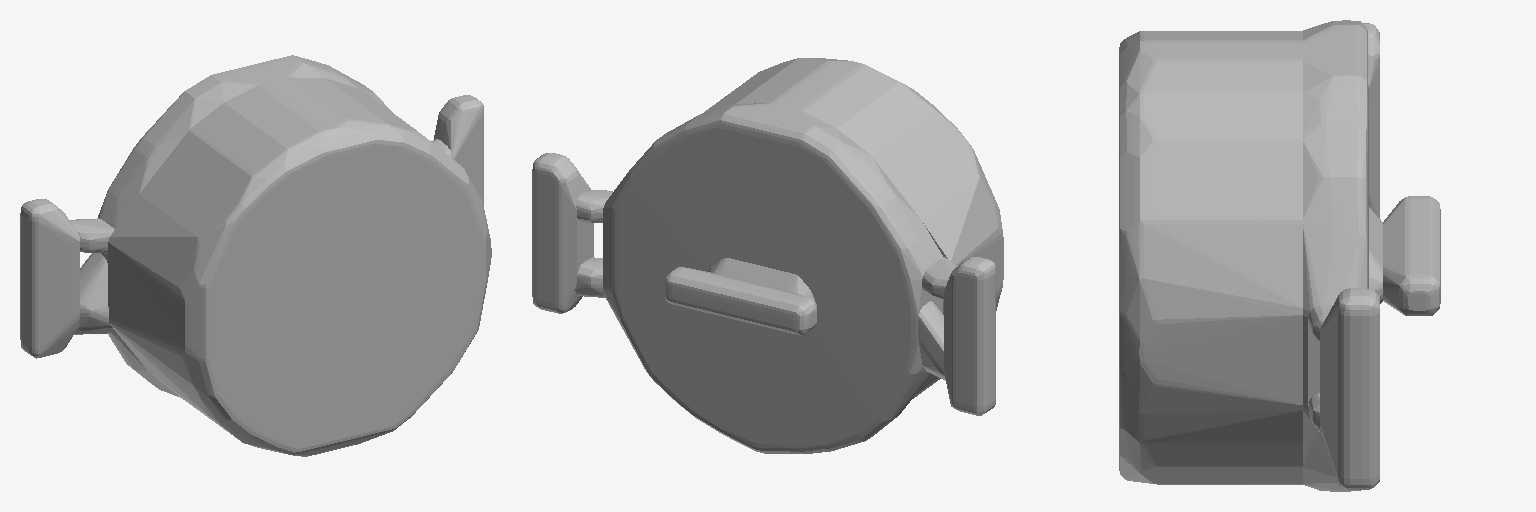
robot.urdf — root:
<robot name="root">
  <link name="link_coacd_convex_piece_0">
    <inertial>
      <origin xyz="0 0 0" rpy="0 0 0"/>
      <inertia ixx="6.73E-02" ixy="-2.78E-04" ixz="-1.01E-05" iyy="9.34E-02" iyz="3.96E-04" izz="6.98E-02"/>
    </inertial>
    <visual>
      <origin xyz="0 0 0" rpy="0 0 0"/>
      <geometry>
        <mesh filename="coacd_convex_piece_0.obj" scale="1.0000E+00 1.0000E+00 1.0000E+00"/>
      </geometry>
      <material name="">
        <color rgba="7.50E-01 7.50E-01 7.50E-01 1"/>
      </material>
    </visual>
    <collision>
      <origin xyz="0 0 0" rpy="0 0 0"/>
      <geometry>
        <mesh filename="coacd_convex_piece_0.obj" scale="1.0000E+00 1.0000E+00 1.0000E+00"/>
      </geometry>
    </collision>
  </link>
  <link name="link_coacd_convex_piece_1">
    <inertial>
      <origin xyz="0 0 0" rpy="0 0 0"/>
      <inertia ixx="9.11E-04" ixy="1.66E-06" ixz="-1.57E-07" iyy="1.85E-04" iyz="-4.37E-05" izz="1.08E-03"/>
    </inertial>
    <visual>
      <origin xyz="0 0 0" rpy="0 0 0"/>
      <geometry>
        <mesh filename="coacd_convex_piece_1.obj" scale="1.0000E+00 1.0000E+00 1.0000E+00"/>
      </geometry>
      <material name="">
        <color rgba="7.50E-01 7.50E-01 7.50E-01 1"/>
      </material>
    </visual>
    <collision>
      <origin xyz="0 0 0" rpy="0 0 0"/>
      <geometry>
        <mesh filename="coacd_convex_piece_1.obj" scale="1.0000E+00 1.0000E+00 1.0000E+00"/>
      </geometry>
    </collision>
  </link>
  <joint name="link_coacd_convex_piece_1_joint" type="fixed">
    <origin xyz="0 0 0" rpy="0 0 0"/>
    <parent link="link_coacd_convex_piece_0"/>
    <child link="link_coacd_convex_piece_1"/>
  </joint>
  <link name="link_coacd_convex_piece_2">
    <inertial>
      <origin xyz="0 0 0" rpy="0 0 0"/>
      <inertia ixx="5.31E-04" ixy="-1.56E-03" ixz="-7.62E-05" iyy="6.56E-03" iyz="-2.66E-05" izz="6.65E-03"/>
    </inertial>
    <visual>
      <origin xyz="0 0 0" rpy="0 0 0"/>
      <geometry>
        <mesh filename="coacd_convex_piece_2.obj" scale="1.0000E+00 1.0000E+00 1.0000E+00"/>
      </geometry>
      <material name="">
        <color rgba="7.50E-01 7.50E-01 7.50E-01 1"/>
      </material>
    </visual>
    <collision>
      <origin xyz="0 0 0" rpy="0 0 0"/>
      <geometry>
        <mesh filename="coacd_convex_piece_2.obj" scale="1.0000E+00 1.0000E+00 1.0000E+00"/>
      </geometry>
    </collision>
  </link>
  <joint name="link_coacd_convex_piece_2_joint" type="fixed">
    <origin xyz="0 0 0" rpy="0 0 0"/>
    <parent link="link_coacd_convex_piece_1"/>
    <child link="link_coacd_convex_piece_2"/>
  </joint>
  <link name="link_coacd_convex_piece_3">
    <inertial>
      <origin xyz="0 0 0" rpy="0 0 0"/>
      <inertia ixx="8.09E-05" ixy="2.94E-04" ixz="-1.68E-04" iyy="1.28E-03" iyz="3.57E-05" izz="1.29E-03"/>
    </inertial>
    <visual>
      <origin xyz="0 0 0" rpy="0 0 0"/>
      <geometry>
        <mesh filename="coacd_convex_piece_3.obj" scale="1.0000E+00 1.0000E+00 1.0000E+00"/>
      </geometry>
      <material name="">
        <color rgba="7.50E-01 7.50E-01 7.50E-01 1"/>
      </material>
    </visual>
    <collision>
      <origin xyz="0 0 0" rpy="0 0 0"/>
      <geometry>
        <mesh filename="coacd_convex_piece_3.obj" scale="1.0000E+00 1.0000E+00 1.0000E+00"/>
      </geometry>
    </collision>
  </link>
  <joint name="link_coacd_convex_piece_3_joint" type="fixed">
    <origin xyz="0 0 0" rpy="0 0 0"/>
    <parent link="link_coacd_convex_piece_2"/>
    <child link="link_coacd_convex_piece_3"/>
  </joint>
  <link name="link_coacd_convex_piece_4">
    <inertial>
      <origin xyz="0 0 0" rpy="0 0 0"/>
      <inertia ixx="2.07E-02" ixy="-5.17E-06" ixz="7.96E-05" iyy="3.66E-02" iyz="-3.32E-04" izz="2.18E-02"/>
    </inertial>
    <visual>
      <origin xyz="0 0 0" rpy="0 0 0"/>
      <geometry>
        <mesh filename="coacd_convex_piece_4.obj" scale="1.0000E+00 1.0000E+00 1.0000E+00"/>
      </geometry>
      <material name="">
        <color rgba="7.50E-01 7.50E-01 7.50E-01 1"/>
      </material>
    </visual>
    <collision>
      <origin xyz="0 0 0" rpy="0 0 0"/>
      <geometry>
        <mesh filename="coacd_convex_piece_4.obj" scale="1.0000E+00 1.0000E+00 1.0000E+00"/>
      </geometry>
    </collision>
  </link>
  <joint name="link_coacd_convex_piece_4_joint" type="fixed">
    <origin xyz="0 0 0" rpy="0 0 0"/>
    <parent link="link_coacd_convex_piece_3"/>
    <child link="link_coacd_convex_piece_4"/>
  </joint>
  <link name="link_coacd_convex_piece_5">
    <inertial>
      <origin xyz="0 0 0" rpy="0 0 0"/>
      <inertia ixx="4.59E-05" ixy="-1.30E-04" ixz="1.15E-04" iyy="5.86E-04" iyz="2.57E-05" izz="5.83E-04"/>
    </inertial>
    <visual>
      <origin xyz="0 0 0" rpy="0 0 0"/>
      <geometry>
        <mesh filename="coacd_convex_piece_5.obj" scale="1.0000E+00 1.0000E+00 1.0000E+00"/>
      </geometry>
      <material name="">
        <color rgba="7.50E-01 7.50E-01 7.50E-01 1"/>
      </material>
    </visual>
    <collision>
      <origin xyz="0 0 0" rpy="0 0 0"/>
      <geometry>
        <mesh filename="coacd_convex_piece_5.obj" scale="1.0000E+00 1.0000E+00 1.0000E+00"/>
      </geometry>
    </collision>
  </link>
  <joint name="link_coacd_convex_piece_5_joint" type="fixed">
    <origin xyz="0 0 0" rpy="0 0 0"/>
    <parent link="link_coacd_convex_piece_4"/>
    <child link="link_coacd_convex_piece_5"/>
  </joint>
  <link name="link_coacd_convex_piece_6">
    <inertial>
      <origin xyz="0 0 0" rpy="0 0 0"/>
      <inertia ixx="3.17E-05" ixy="-9.94E-05" ixz="-8.05E-05" iyy="4.46E-04" iyz="-1.93E-05" izz="4.47E-04"/>
    </inertial>
    <visual>
      <origin xyz="0 0 0" rpy="0 0 0"/>
      <geometry>
        <mesh filename="coacd_convex_piece_6.obj" scale="1.0000E+00 1.0000E+00 1.0000E+00"/>
      </geometry>
      <material name="">
        <color rgba="7.50E-01 7.50E-01 7.50E-01 1"/>
      </material>
    </visual>
    <collision>
      <origin xyz="0 0 0" rpy="0 0 0"/>
      <geometry>
        <mesh filename="coacd_convex_piece_6.obj" scale="1.0000E+00 1.0000E+00 1.0000E+00"/>
      </geometry>
    </collision>
  </link>
  <joint name="link_coacd_convex_piece_6_joint" type="fixed">
    <origin xyz="0 0 0" rpy="0 0 0"/>
    <parent link="link_coacd_convex_piece_5"/>
    <child link="link_coacd_convex_piece_6"/>
  </joint>
  <link name="link_coacd_convex_piece_7">
    <inertial>
      <origin xyz="0 0 0" rpy="0 0 0"/>
      <inertia ixx="5.29E-04" ixy="1.55E-03" ixz="9.50E-05" iyy="6.49E-03" iyz="-3.06E-05" izz="6.59E-03"/>
    </inertial>
    <visual>
      <origin xyz="0 0 0" rpy="0 0 0"/>
      <geometry>
        <mesh filename="coacd_convex_piece_7.obj" scale="1.0000E+00 1.0000E+00 1.0000E+00"/>
      </geometry>
      <material name="">
        <color rgba="7.50E-01 7.50E-01 7.50E-01 1"/>
      </material>
    </visual>
    <collision>
      <origin xyz="0 0 0" rpy="0 0 0"/>
      <geometry>
        <mesh filename="coacd_convex_piece_7.obj" scale="1.0000E+00 1.0000E+00 1.0000E+00"/>
      </geometry>
    </collision>
  </link>
  <joint name="link_coacd_convex_piece_7_joint" type="fixed">
    <origin xyz="0 0 0" rpy="0 0 0"/>
    <parent link="link_coacd_convex_piece_6"/>
    <child link="link_coacd_convex_piece_7"/>
  </joint>
  <link name="link_coacd_convex_piece_8">
    <inertial>
      <origin xyz="0 0 0" rpy="0 0 0"/>
      <inertia ixx="5.38E-05" ixy="1.32E-04" ixz="1.39E-04" iyy="6.22E-04" iyz="-3.21E-05" izz="6.09E-04"/>
    </inertial>
    <visual>
      <origin xyz="0 0 0" rpy="0 0 0"/>
      <geometry>
        <mesh filename="coacd_convex_piece_8.obj" scale="1.0000E+00 1.0000E+00 1.0000E+00"/>
      </geometry>
      <material name="">
        <color rgba="7.50E-01 7.50E-01 7.50E-01 1"/>
      </material>
    </visual>
    <collision>
      <origin xyz="0 0 0" rpy="0 0 0"/>
      <geometry>
        <mesh filename="coacd_convex_piece_8.obj" scale="1.0000E+00 1.0000E+00 1.0000E+00"/>
      </geometry>
    </collision>
  </link>
  <joint name="link_coacd_convex_piece_8_joint" type="fixed">
    <origin xyz="0 0 0" rpy="0 0 0"/>
    <parent link="link_coacd_convex_piece_7"/>
    <child link="link_coacd_convex_piece_8"/>
  </joint>
  <link name="link_coacd_convex_piece_9">
    <inertial>
      <origin xyz="0 0 0" rpy="0 0 0"/>
      <inertia ixx="9.89E-05" ixy="3.93E-07" ixz="8.56E-08" iyy="2.28E-05" iyz="-1.70E-06" izz="1.16E-04"/>
    </inertial>
    <visual>
      <origin xyz="0 0 0" rpy="0 0 0"/>
      <geometry>
        <mesh filename="coacd_convex_piece_9.obj" scale="1.0000E+00 1.0000E+00 1.0000E+00"/>
      </geometry>
      <material name="">
        <color rgba="7.50E-01 7.50E-01 7.50E-01 1"/>
      </material>
    </visual>
    <collision>
      <origin xyz="0 0 0" rpy="0 0 0"/>
      <geometry>
        <mesh filename="coacd_convex_piece_9.obj" scale="1.0000E+00 1.0000E+00 1.0000E+00"/>
      </geometry>
    </collision>
  </link>
  <joint name="link_coacd_convex_piece_9_joint" type="fixed">
    <origin xyz="0 0 0" rpy="0 0 0"/>
    <parent link="link_coacd_convex_piece_8"/>
    <child link="link_coacd_convex_piece_9"/>
  </joint>
</robot>

--- Render facts (derived) ---
The picture shows the robot from 3 angles, left to right: view 1: azimuth 30°, elevation 25°; view 2: azimuth 150°, elevation 25°; view 3: azimuth 270°, elevation 25°; orthographic projection.
Robot: root — 10 links, 9 joints (9 fixed); root link link_coacd_convex_piece_0; default pose: all joints at 0.
Visible links, largest first — view 1: link_coacd_convex_piece_0, link_coacd_convex_piece_4, link_coacd_convex_piece_7, link_coacd_convex_piece_2, link_coacd_convex_piece_3, link_coacd_convex_piece_8; view 2: link_coacd_convex_piece_4, link_coacd_convex_piece_0, link_coacd_convex_piece_2, link_coacd_convex_piece_7, link_coacd_convex_piece_1, link_coacd_convex_piece_9, link_coacd_convex_piece_3, link_coacd_convex_piece_5, link_coacd_convex_piece_6, link_coacd_convex_piece_8; view 3: link_coacd_convex_piece_0, link_coacd_convex_piece_4, link_coacd_convex_piece_2, link_coacd_convex_piece_1, link_coacd_convex_piece_7, link_coacd_convex_piece_9.
Boxes of the visible links, bbox=[...] form: link_coacd_convex_piece_0: bbox=[108, 77, 491, 456]; link_coacd_convex_piece_4: bbox=[98, 55, 392, 397]; link_coacd_convex_piece_7: bbox=[20, 199, 79, 358]; link_coacd_convex_piece_2: bbox=[434, 95, 483, 204]; link_coacd_convex_piece_3: bbox=[74, 253, 113, 334]; link_coacd_convex_piece_8: bbox=[70, 218, 114, 253]; link_coacd_convex_piece_4: bbox=[603, 103, 942, 453]; link_coacd_convex_piece_0: bbox=[704, 58, 1003, 398]; link_coacd_convex_piece_2: bbox=[532, 153, 593, 313]; link_coacd_convex_piece_7: bbox=[944, 257, 995, 415]; link_coacd_convex_piece_1: bbox=[665, 267, 816, 334]; link_coacd_convex_piece_9: bbox=[709, 258, 814, 300]; link_coacd_convex_piece_3: bbox=[918, 301, 945, 380]; link_coacd_convex_piece_5: bbox=[575, 257, 604, 297]; link_coacd_convex_piece_6: bbox=[576, 190, 612, 222]; link_coacd_convex_piece_8: bbox=[922, 257, 957, 300]; link_coacd_convex_piece_0: bbox=[1119, 31, 1302, 484]; link_coacd_convex_piece_4: bbox=[1303, 20, 1368, 491]; link_coacd_convex_piece_2: bbox=[1320, 288, 1379, 489]; link_coacd_convex_piece_1: bbox=[1383, 196, 1440, 315]; link_coacd_convex_piece_7: bbox=[1363, 23, 1379, 217]; link_coacd_convex_piece_9: bbox=[1369, 207, 1382, 303].
Bounding box of the posed robot: 1.81 × 0.8684 × 1.26 m (x, y, z).
10 mesh visuals loaded from 10 distinct referenced files (10 OBJ).